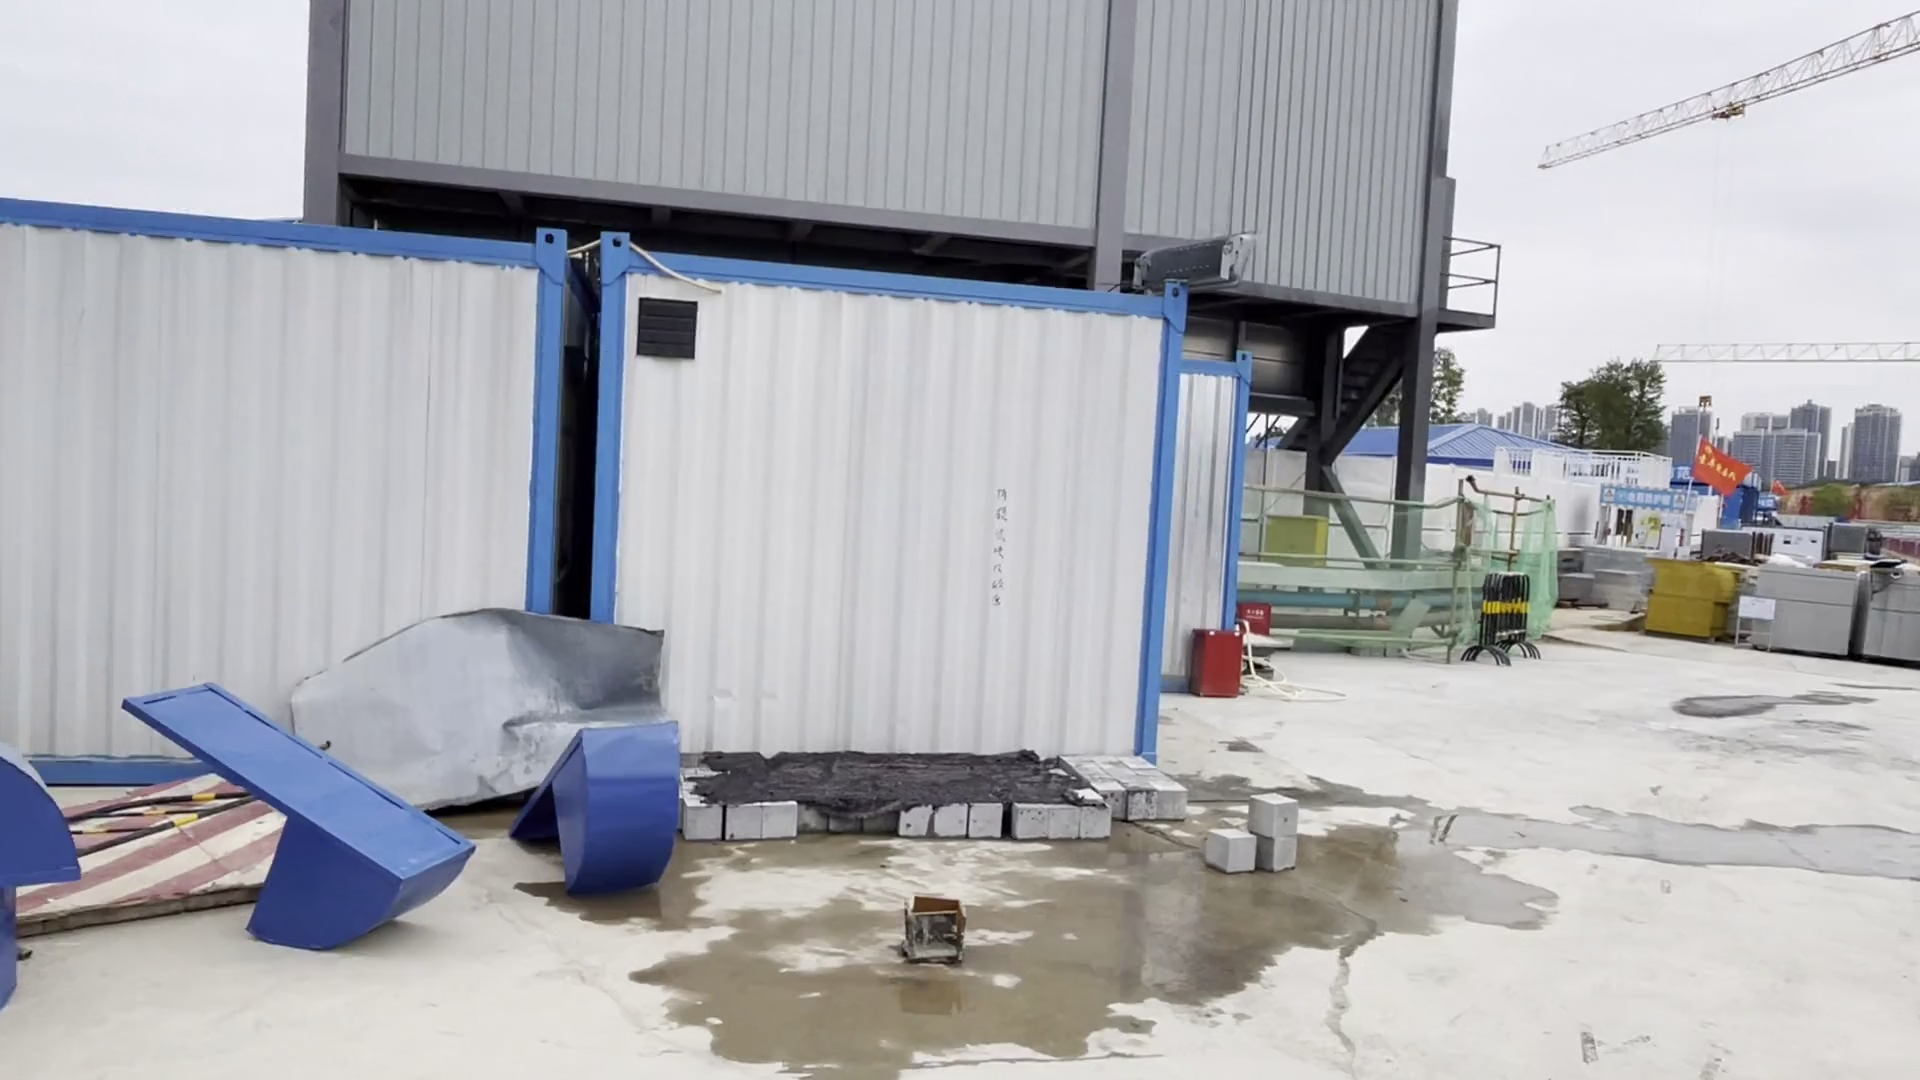brick: (1750, 554, 1865, 673), (1557, 531, 1648, 617), (1857, 553, 1920, 674)
ebox: (1261, 509, 1335, 574)
hook: (1697, 394, 1716, 413)
